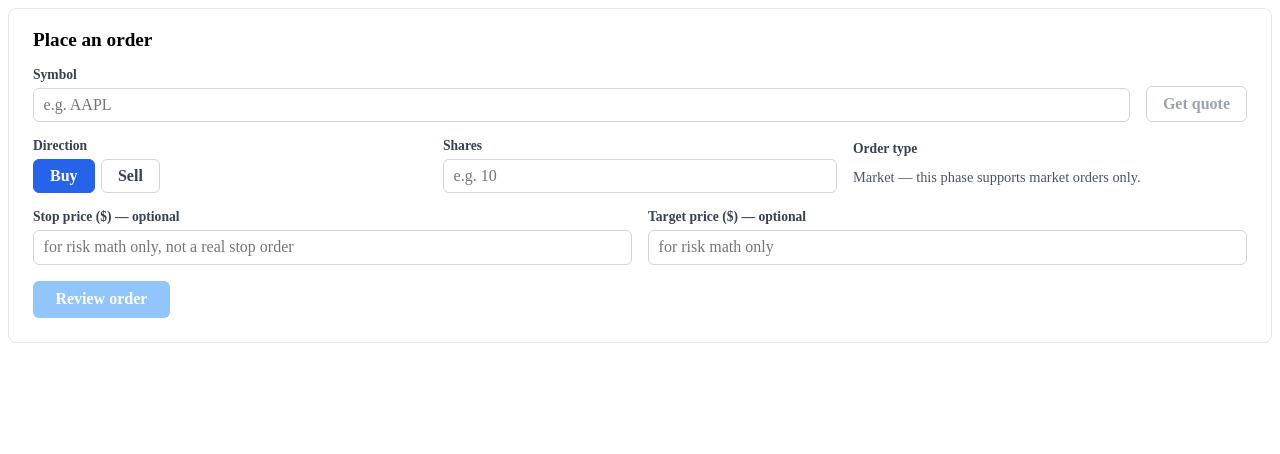
it: OrderForm quantity validation › rejects a quantity of 0 and disables Review order
Type "AAPL" into the field labelled "Symbol" at [581, 105], box [33, 88, 1130, 122]
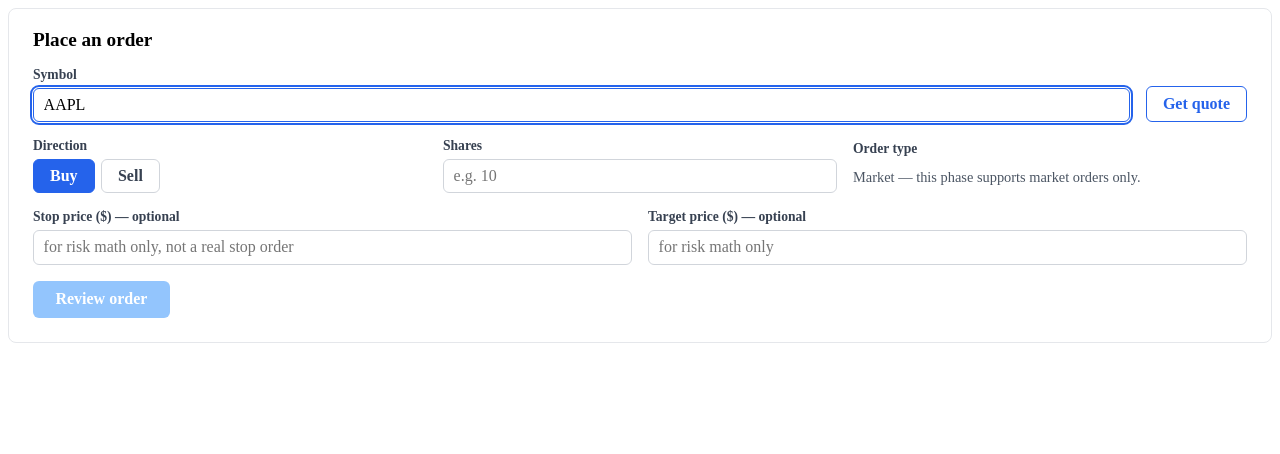
Click the button "Get quote" at [1196, 104], box [1146, 86, 1247, 122]
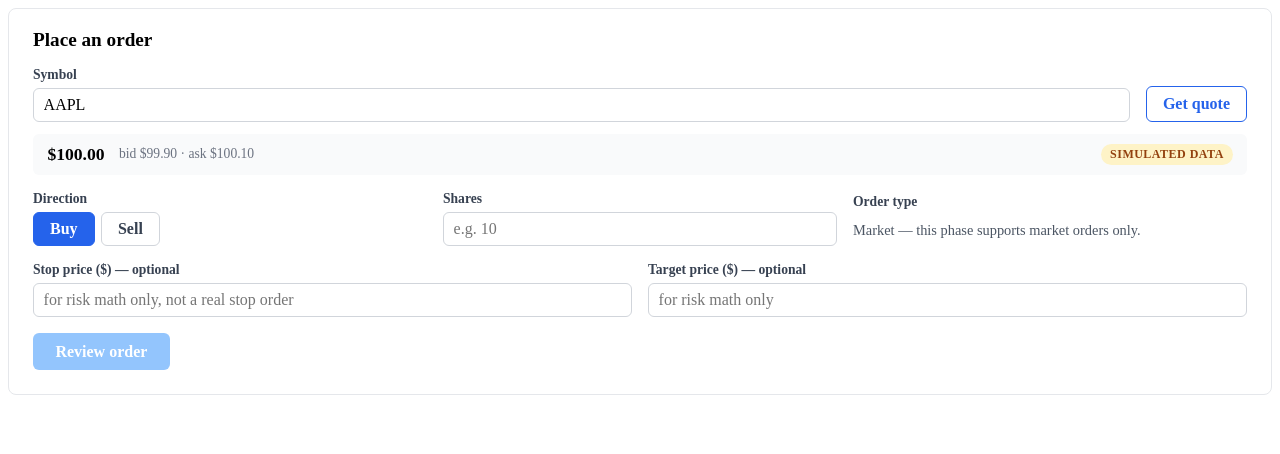
Expected: the text "bid $99.90 · ask $100.10" is shown, [119, 146, 254, 162]
Type "0" into the field labelled "Shares" at [640, 229], box [443, 212, 837, 246]
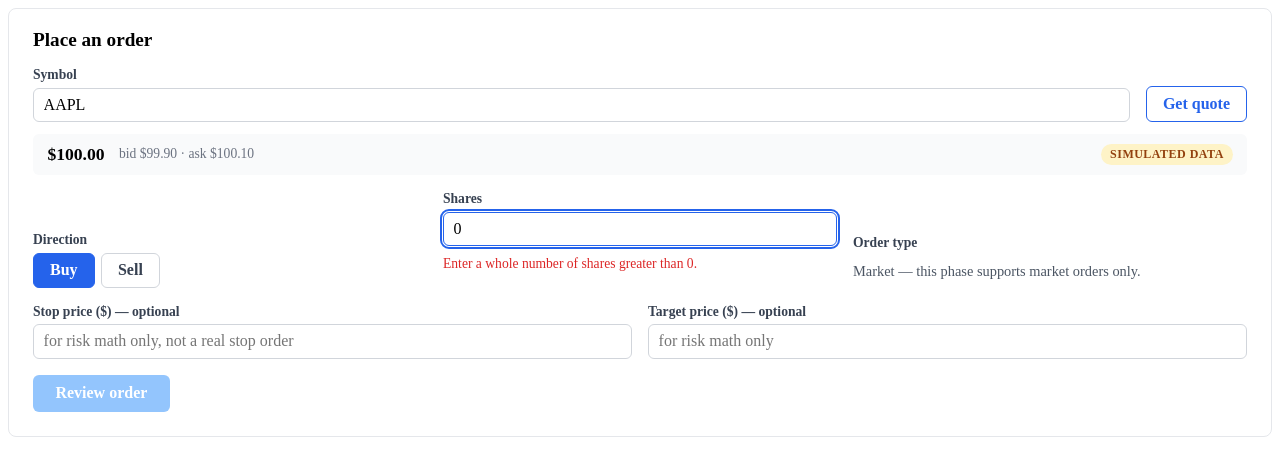
Expected: the button "Review order" is disabled, [33, 375, 170, 412]
Expected: the text "Enter a whole number of shares greater than 0." is shown, [443, 256, 697, 270]
